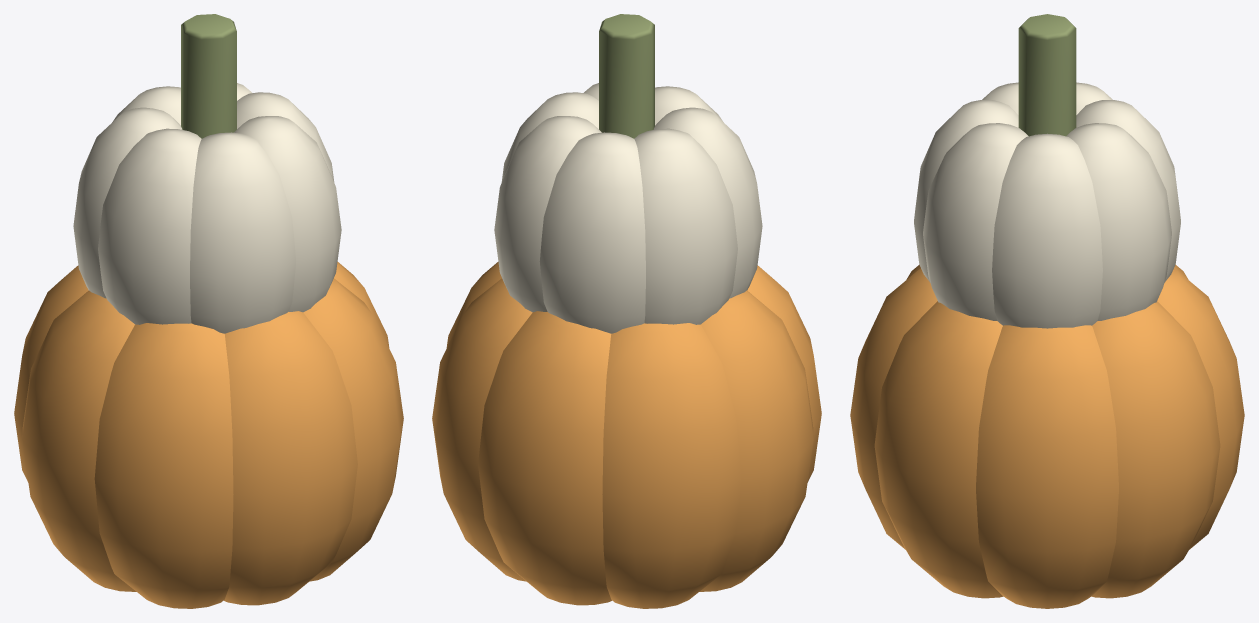
File: Stacked_Pumpkins.fbx
3 views of the same model, side by side, from view 1: azimuth 30°, elevation 25°; view 2: azimuth 150°, elevation 25°; view 3: azimuth 270°, elevation 25° (orthographic).
Visible parts, largest first — view 1: Stacked_Pumpkins_Mesh; view 2: Stacked_Pumpkins_Mesh; view 3: Stacked_Pumpkins_Mesh.
Boxes of the visible parts, x1,y1,x2,y2 form: Stacked_Pumpkins_Mesh: (14, 14, 403, 608); Stacked_Pumpkins_Mesh: (432, 14, 821, 608); Stacked_Pumpkins_Mesh: (850, 14, 1244, 608).
Bounding box in the file's own units: 0.096 × 0.145 × 0.096.
